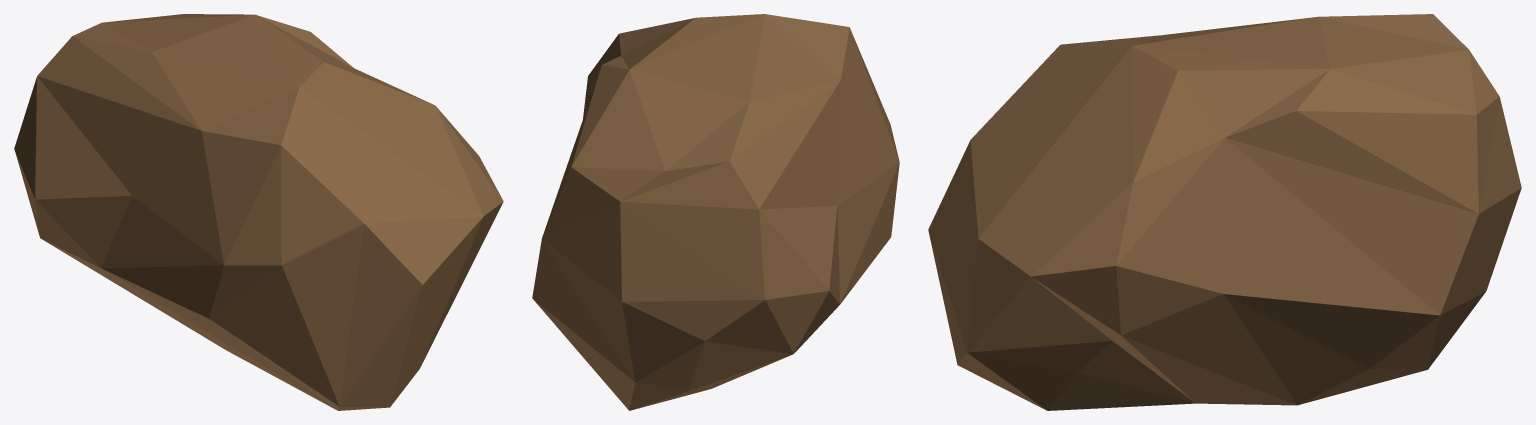
File: Rock2.fbx
3 views of the same model, side by side, from view 1: azimuth 30°, elevation 25°; view 2: azimuth 150°, elevation 25°; view 3: azimuth 270°, elevation 25° (orthographic). The views are drawn at different scales.
Visible parts, largest first — view 1: rock1; view 2: rock1; view 3: rock1.
Boxes of the visible parts, x1=… form: rock1: x1=14, y1=14, x2=503, y2=410; rock1: x1=532, y1=14, x2=899, y2=410; rock1: x1=928, y1=14, x2=1521, y2=410.
Size of the model in its own units: 1.86 by 1.61 by 2.46.
